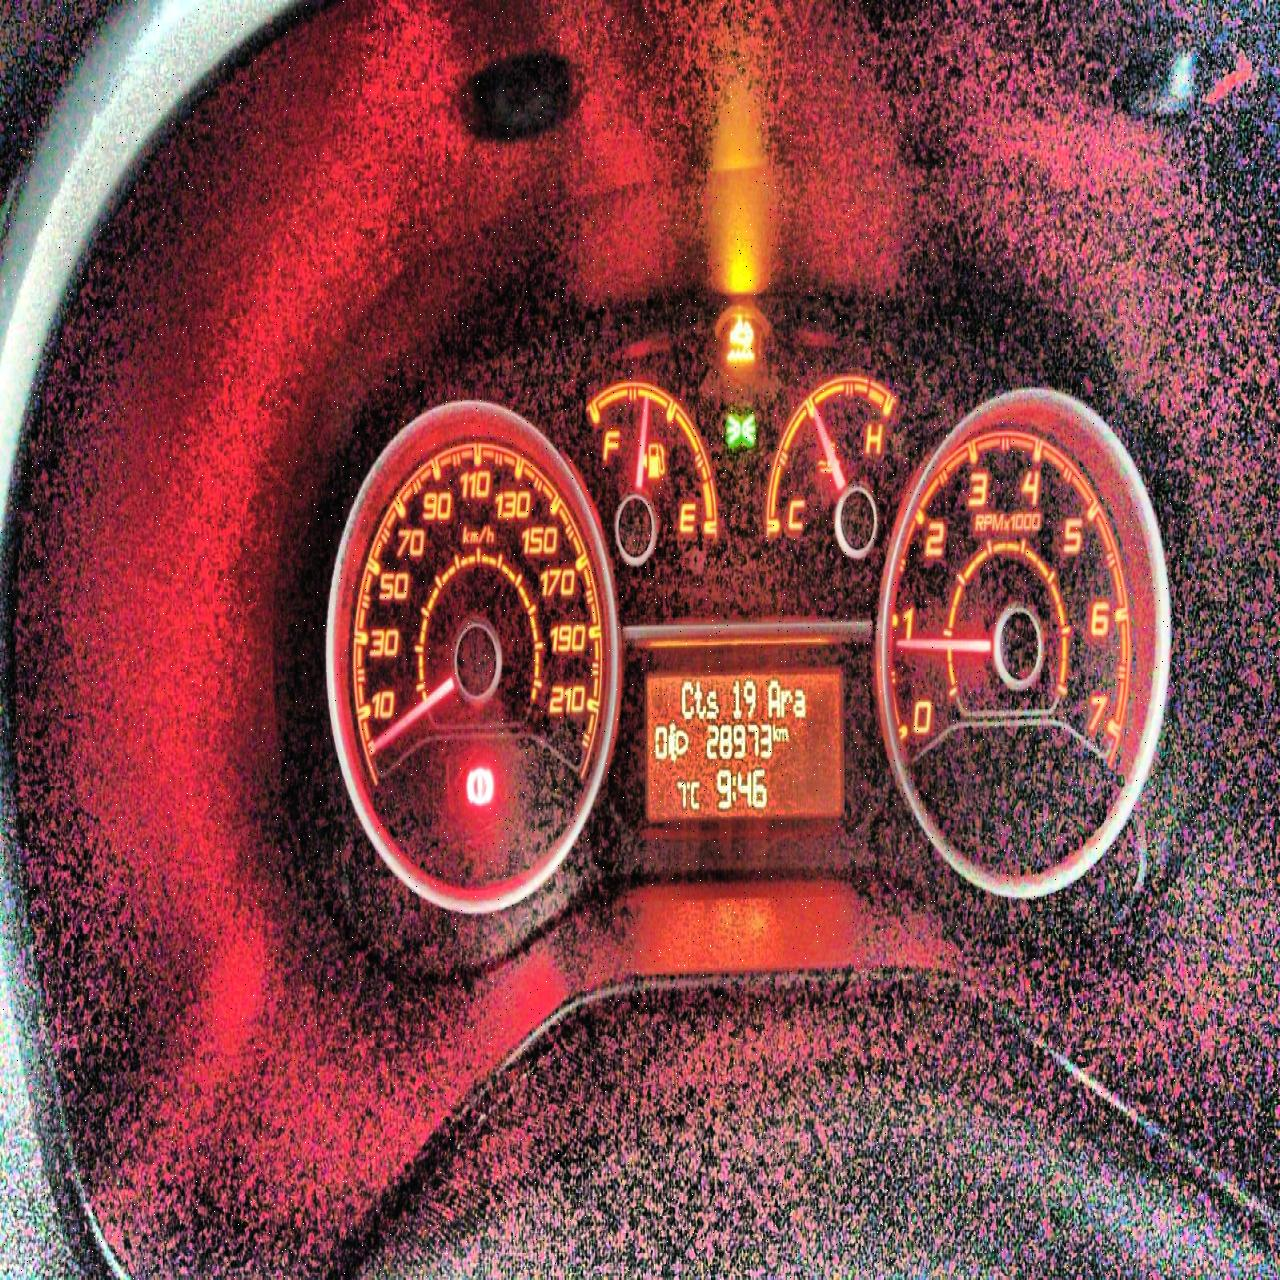0: (654, 723, 667, 757)
1: (731, 676, 741, 717)
2: (704, 723, 719, 757)
3: (760, 722, 771, 756)
4: (736, 769, 751, 806)
6: (751, 768, 767, 808)
7: (747, 722, 760, 756), (675, 779, 686, 809)
8: (719, 722, 731, 757)
9: (716, 768, 731, 810), (742, 676, 757, 717), (731, 722, 745, 760)
X: (767, 678, 779, 717), (681, 679, 694, 719), (704, 688, 719, 720), (693, 681, 704, 717), (779, 688, 792, 716), (792, 688, 805, 716), (690, 777, 700, 809), (730, 774, 736, 802), (778, 727, 788, 742), (771, 722, 778, 742)
odometer: (642, 663, 846, 829)
